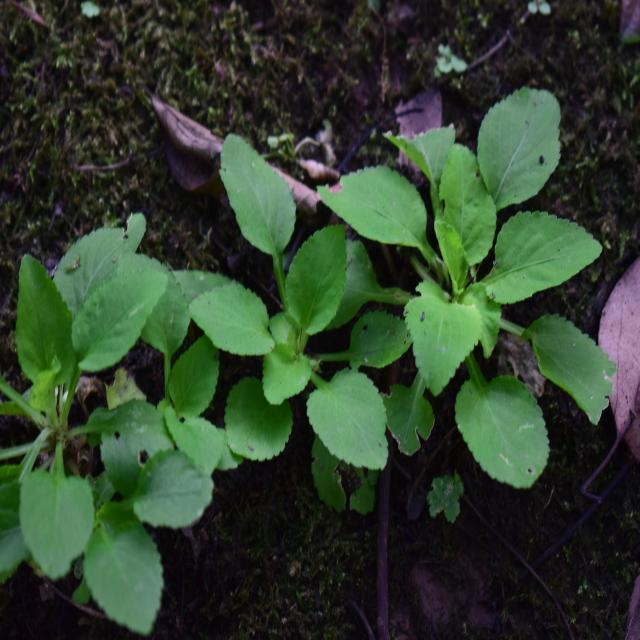Viola: (352, 78, 614, 478), (0, 194, 208, 608), (204, 132, 409, 518)
